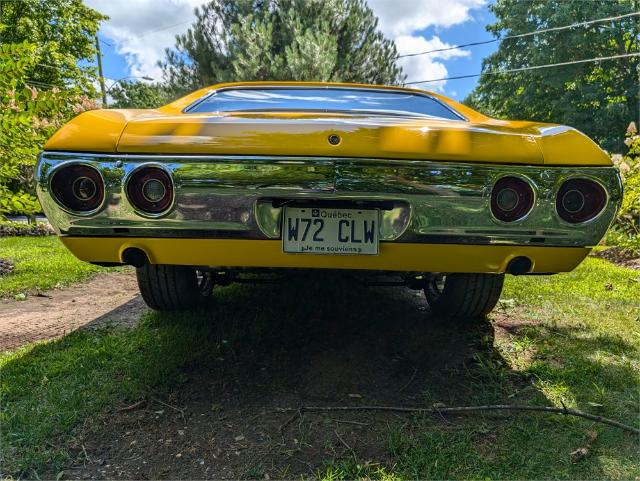chevelle-1972: (34, 82, 622, 318)
